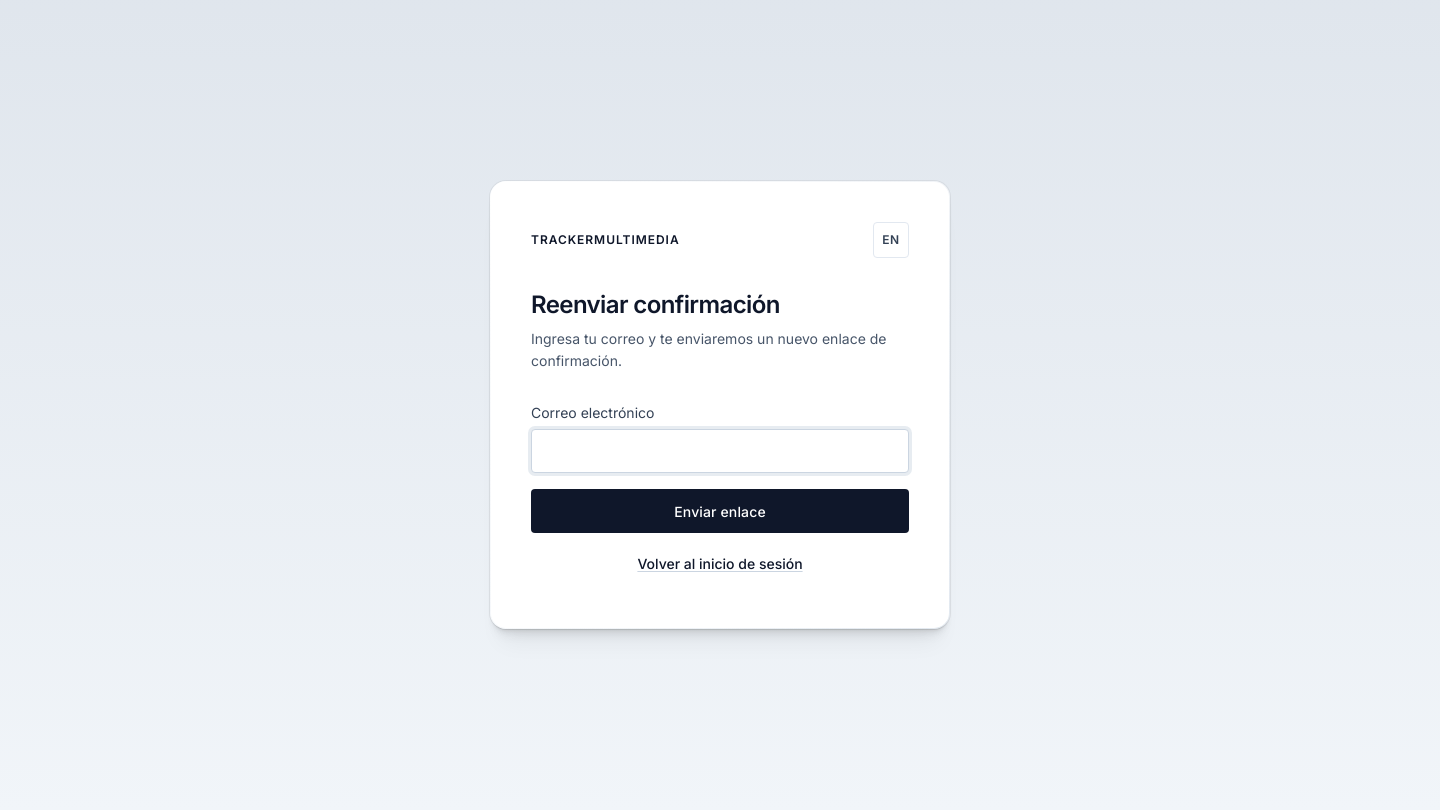
Scenario: ResendConfirmationView › shows the extracted API error when resending fails
Type "user@test.com" into the field labelled "Correo electrónico". click: (720, 451)
box: [531,429,909,473]
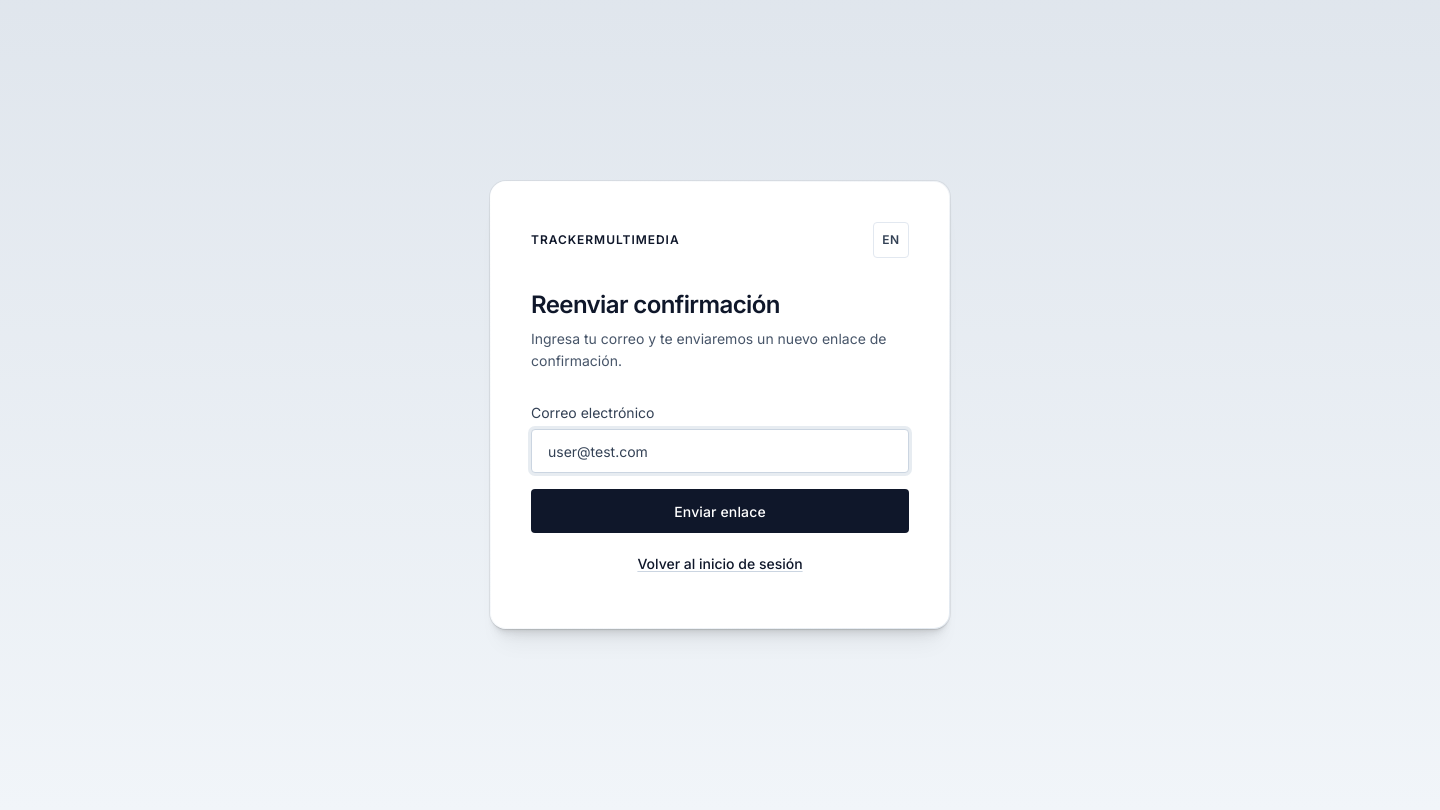
Click the button "Enviar enlace". click: (720, 511)
box: [531,489,909,533]
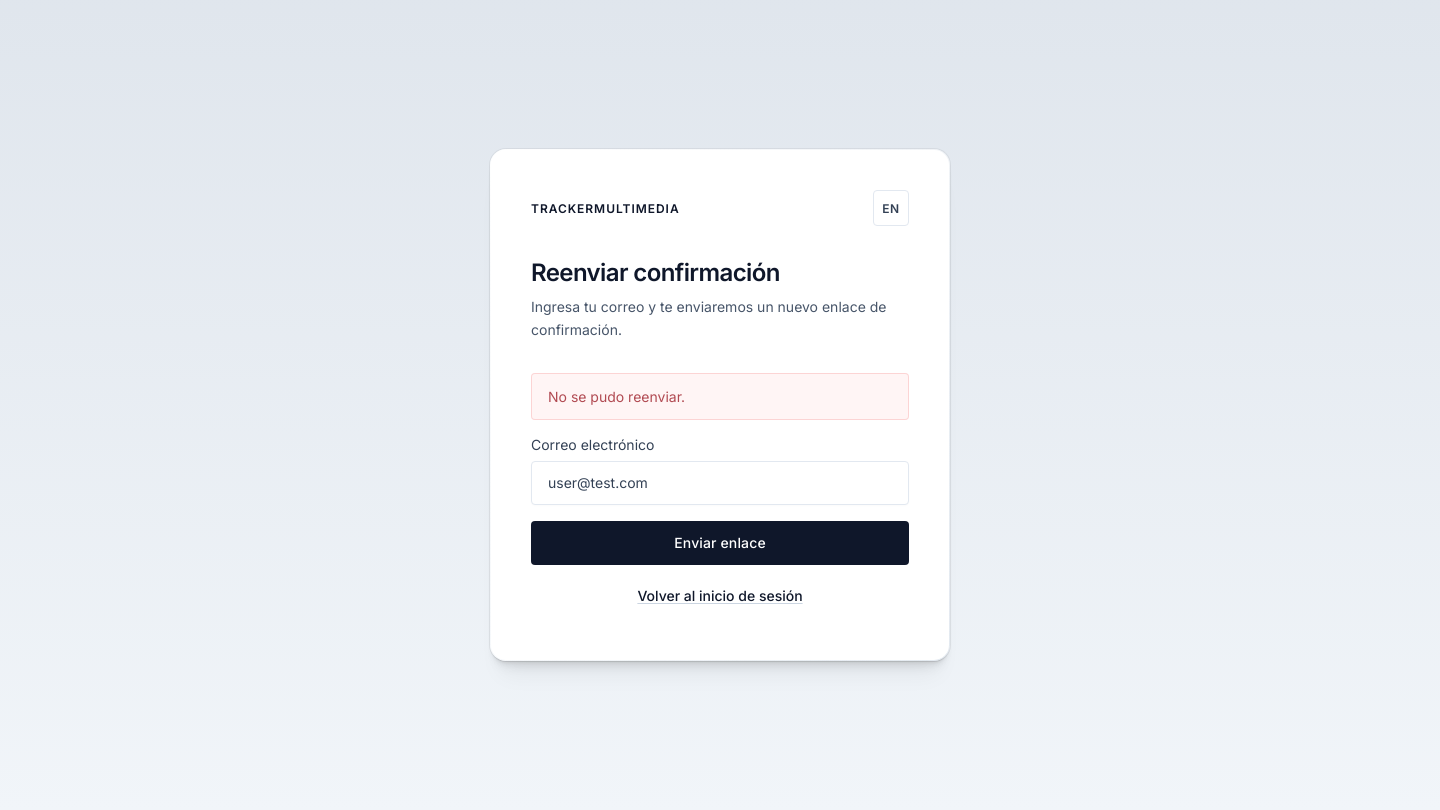
Now the message reads "No se pudo reenviar.", box [548,388,685,405]
